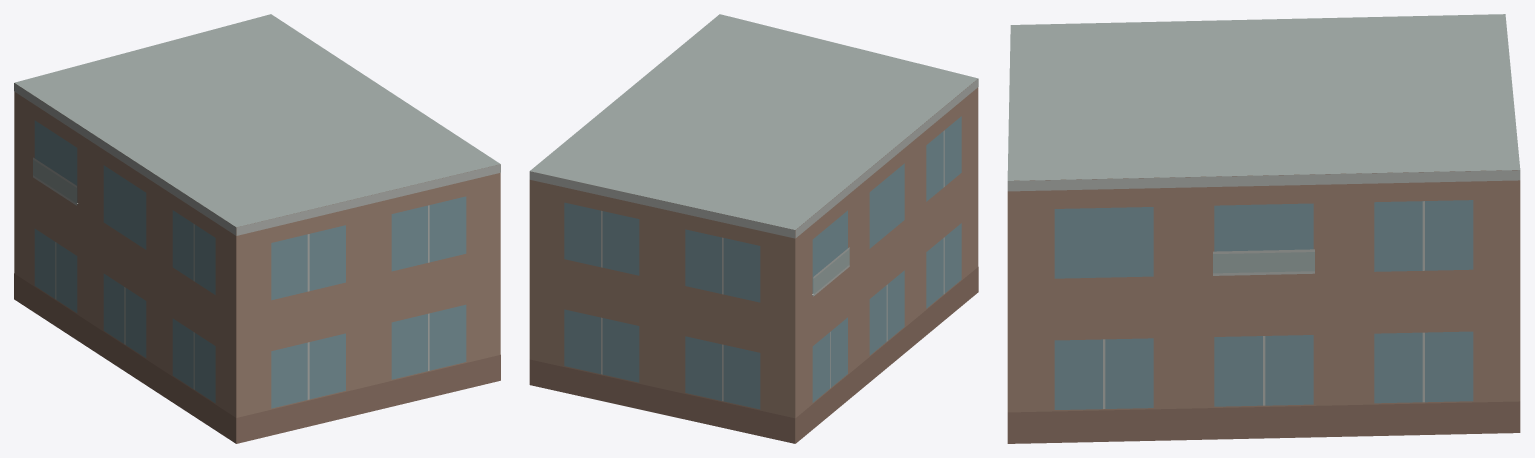
The model's file is survey-upis-32635186.glb.
3 renders of one model, left to right at view 1: azimuth 30°, elevation 25°; view 2: azimuth 150°, elevation 25°; view 3: azimuth 270°, elevation 25°, orthographic. The views are drawn at different scales.
Parts seen in each view (by area): view 1: survey-upis-32635186.tmp; view 2: survey-upis-32635186.tmp; view 3: survey-upis-32635186.tmp.
Boxes of the visible parts, x1=… form: survey-upis-32635186.tmp: x1=14, y1=14, x2=500, y2=443; survey-upis-32635186.tmp: x1=529, y1=14, x2=978, y2=443; survey-upis-32635186.tmp: x1=1007, y1=14, x2=1520, y2=443.
Size of the model in its own units: 8.31 by 6.1 by 10.79.
